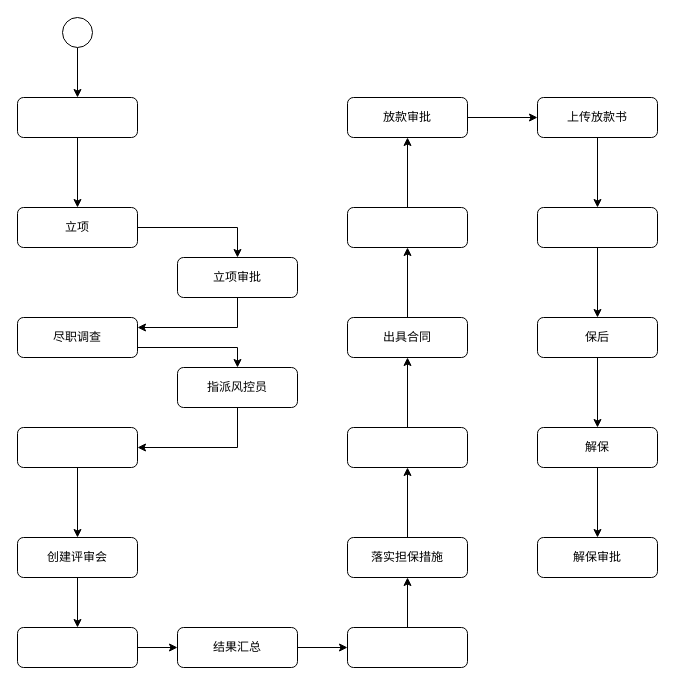
Image size: 675x685. Some labels were removed from this diagram. Each missing label, with the centre of its shape:
保费确认: the point at 407,227
出具意向书: the point at 407,447
放款确认: the point at 597,227
用户申请: the point at 77,117
评审会审议: the point at 77,647
评审决议: the point at 407,647
风控报告: the point at 77,447
